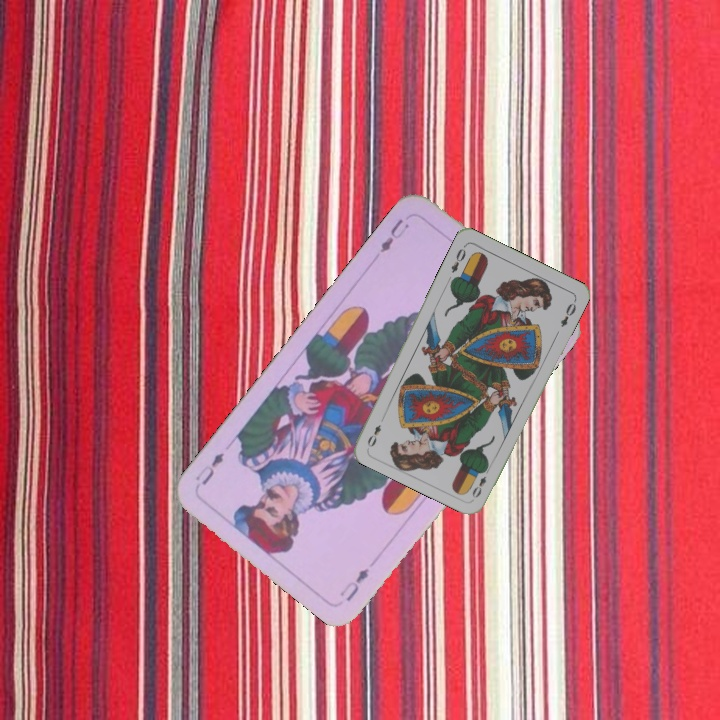EO: (468, 463, 493, 501), (447, 241, 468, 276)
EU: (375, 214, 412, 256), (336, 563, 372, 604)
